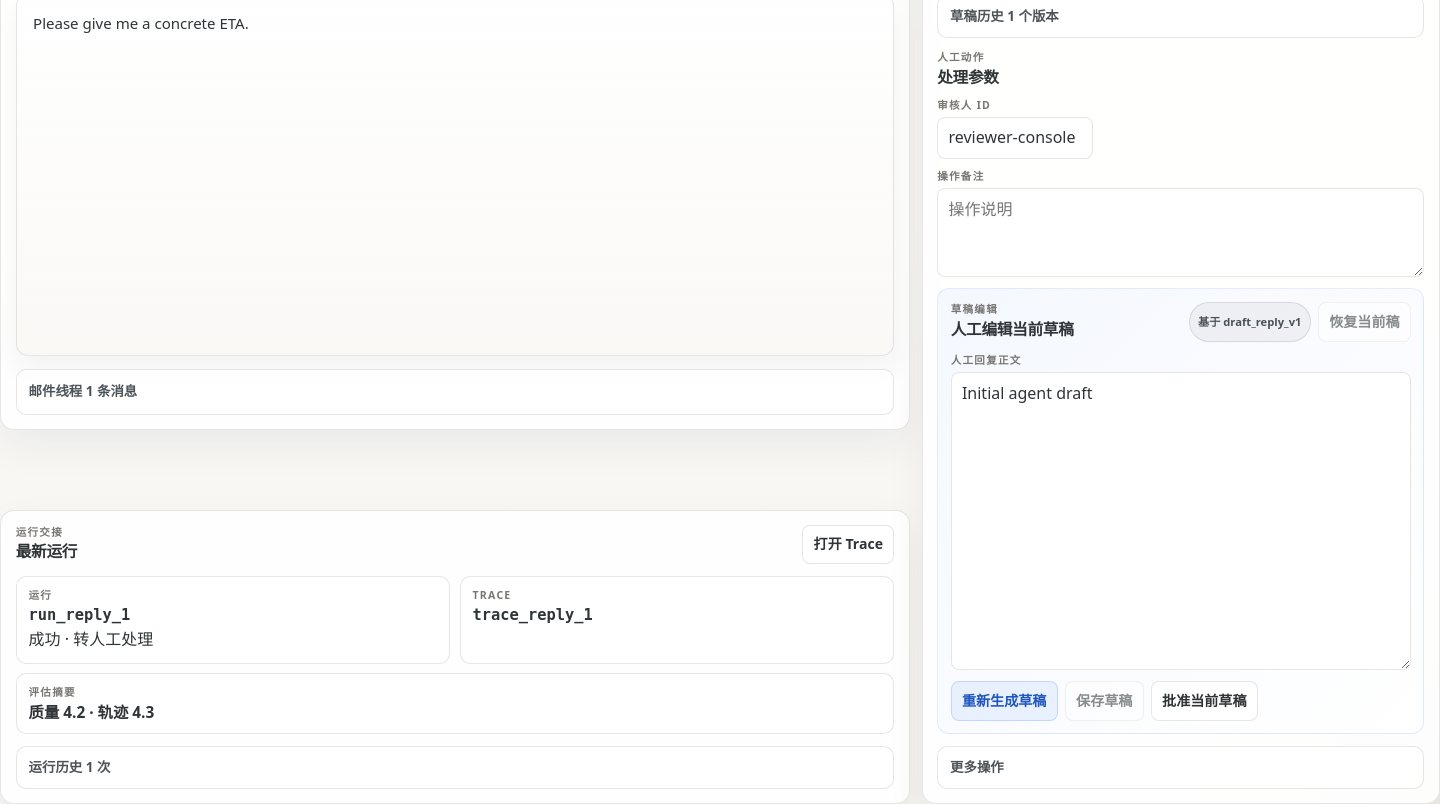
Test: TicketDetailPageV2 › saves an edited draft and keeps approval blocked until the new version loads
(page scrolled)
Replace the text in the text box labelled "人工回复正文" with "Human revised reply with concrete ETA.": (1181, 521) [951,372,1411,670]
(page scrolled)
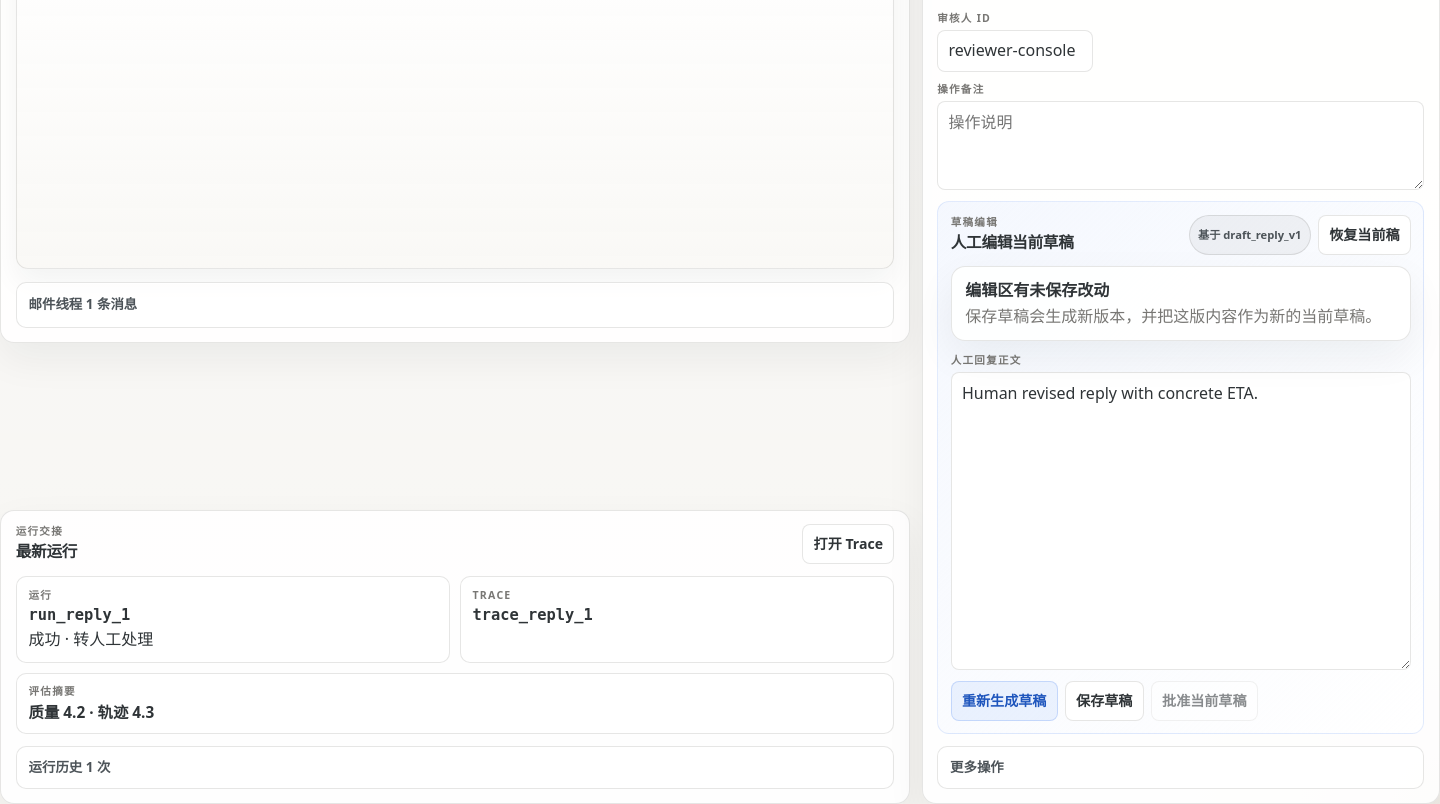
Now the text "编辑区有未保存改动" is shown, box [965,279,1109,301]
Now the button "批准当前草稿" is disabled, box [1151,681,1258,721]
Click the button "保存草稿": click(1104, 701) [1065,681,1144,721]
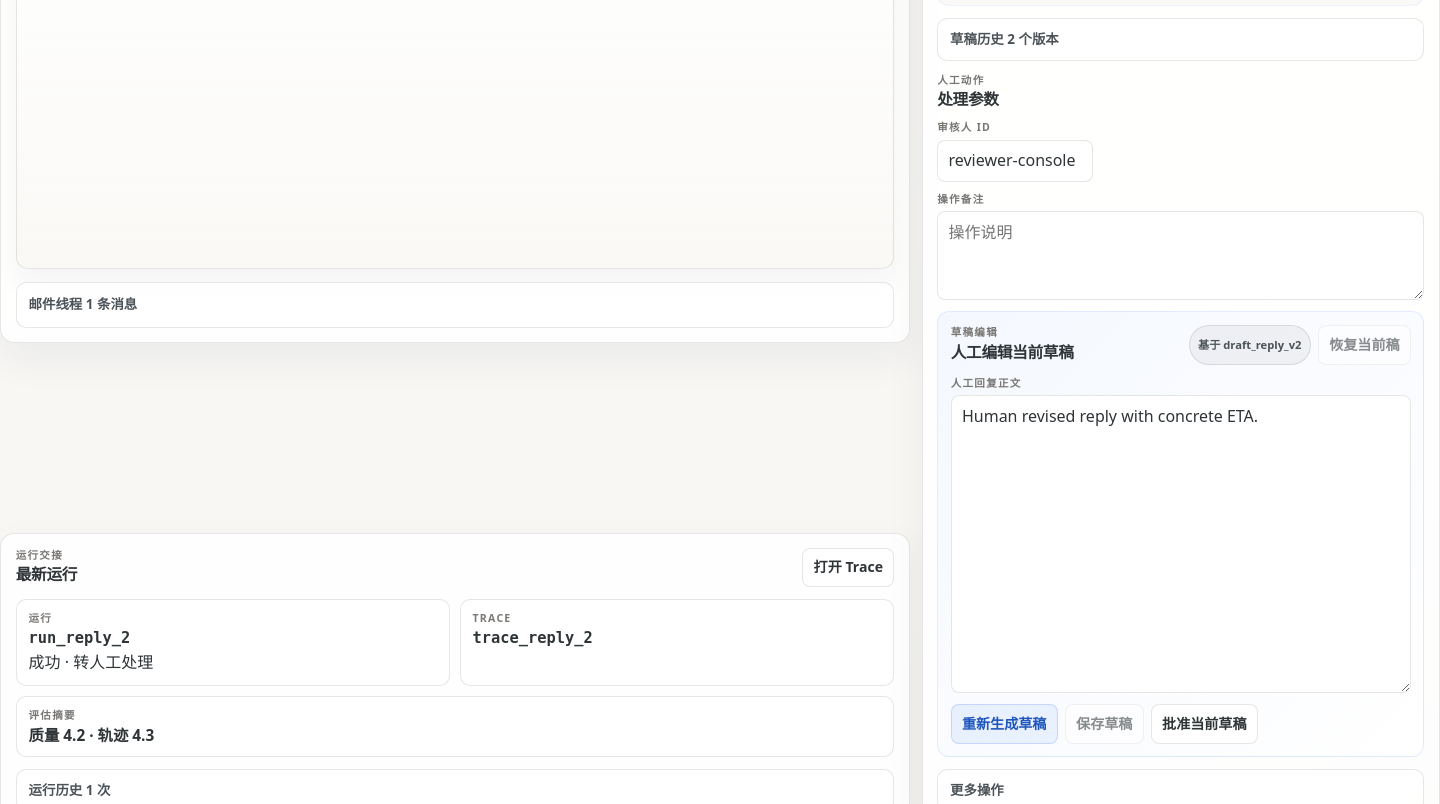
Now the button "批准当前草稿" is enabled, box [1151,704,1258,744]
